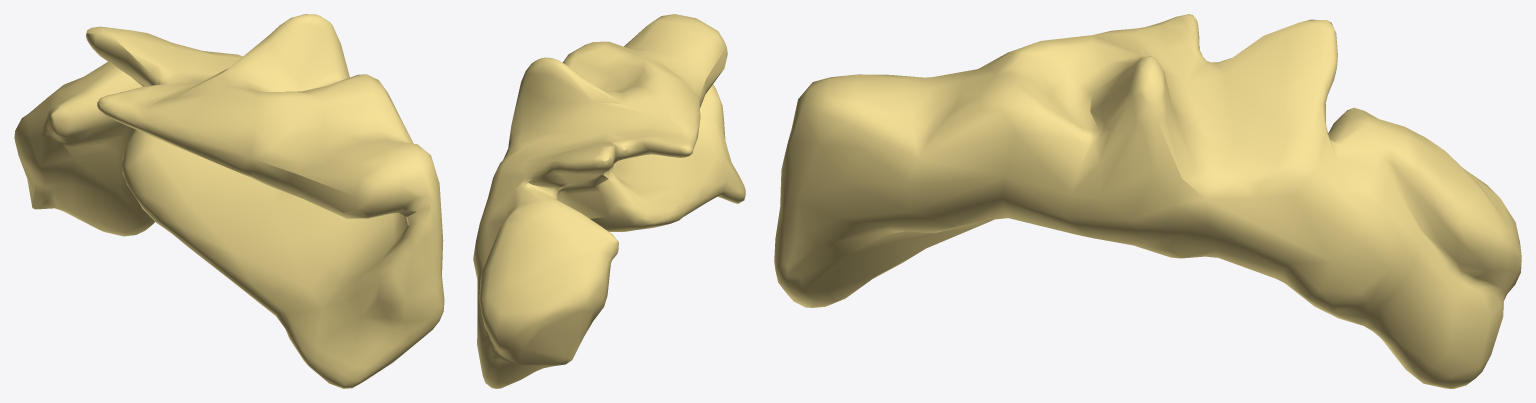
The model's file is fma72805_fj1839.glb.
3 views of the same model, side by side, from view 1: azimuth 30°, elevation 25°; view 2: azimuth 150°, elevation 25°; view 3: azimuth 270°, elevation 25° (orthographic). The views are drawn at different scales.
Visible parts, largest first — view 1: FMA72805_FJ1839; view 2: FMA72805_FJ1839; view 3: FMA72805_FJ1839.
Boxes of the visible parts, <box> form: FMA72805_FJ1839: <box>14,14,444,388</box>; FMA72805_FJ1839: <box>473,14,745,388</box>; FMA72805_FJ1839: <box>774,14,1521,388</box>.
Bounding box in the file's own units: 0.0317 × 0.0391 × 0.0737.
